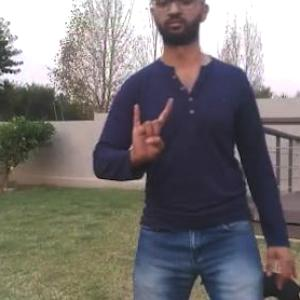takeoff-hand: (125, 94, 176, 174)
